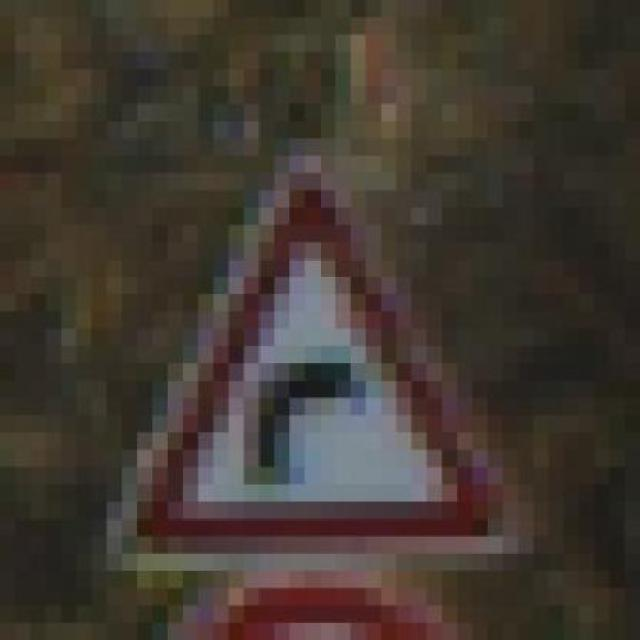Dangerous Rright Curve Ahead: (91, 138, 518, 571)
